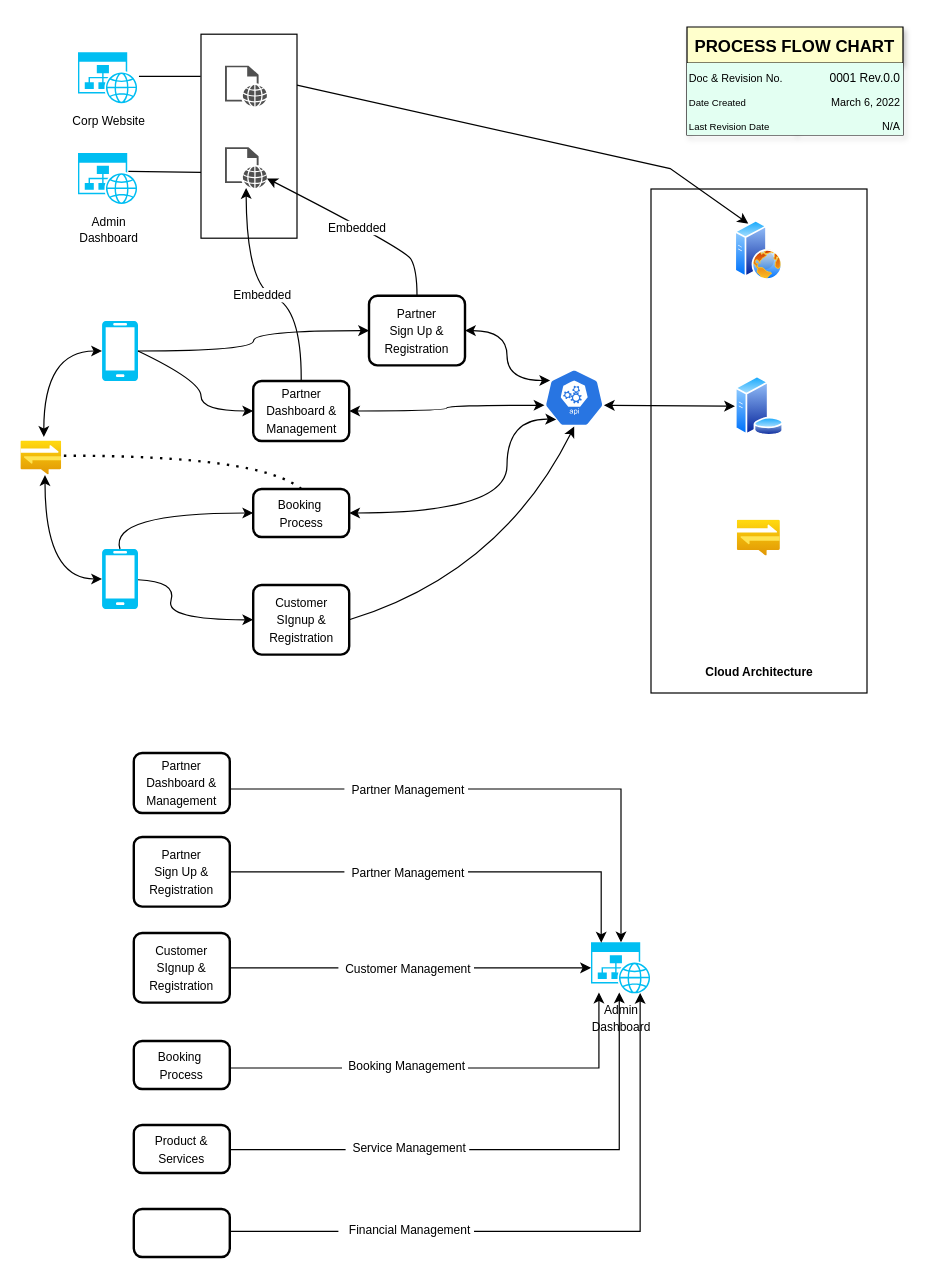
The diagram is 931 pixels wide and 1279 high, and some of its shapes have lost their labels. The centre of each missing label's shape, as x and y in pixels:
"Customer Mobile App" goes at [119,578].
"Database Server" goes at [759,406].
"Financial Dashboard" goes at [181,1232].
"Notification Service" goes at [758,538].
"Pages" goes at [245,85].
"Partner Mobile App" goes at [119,350].
"Web Server" goes at [758,250].
